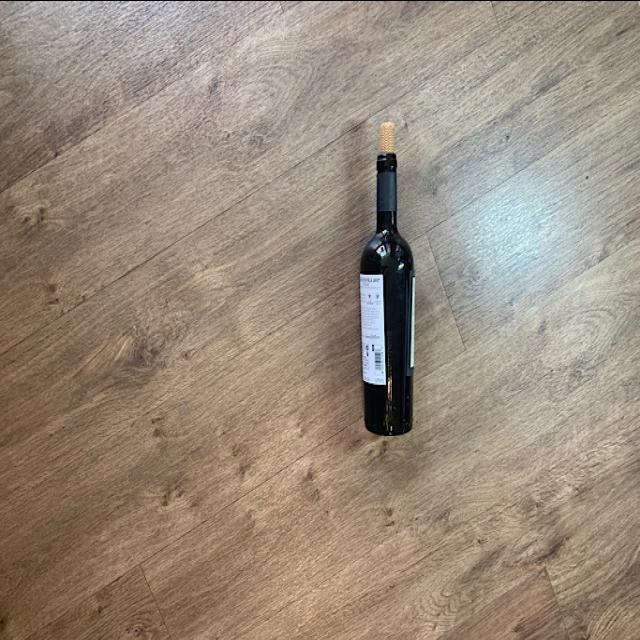Glass Bottle: (360, 148, 416, 446)
